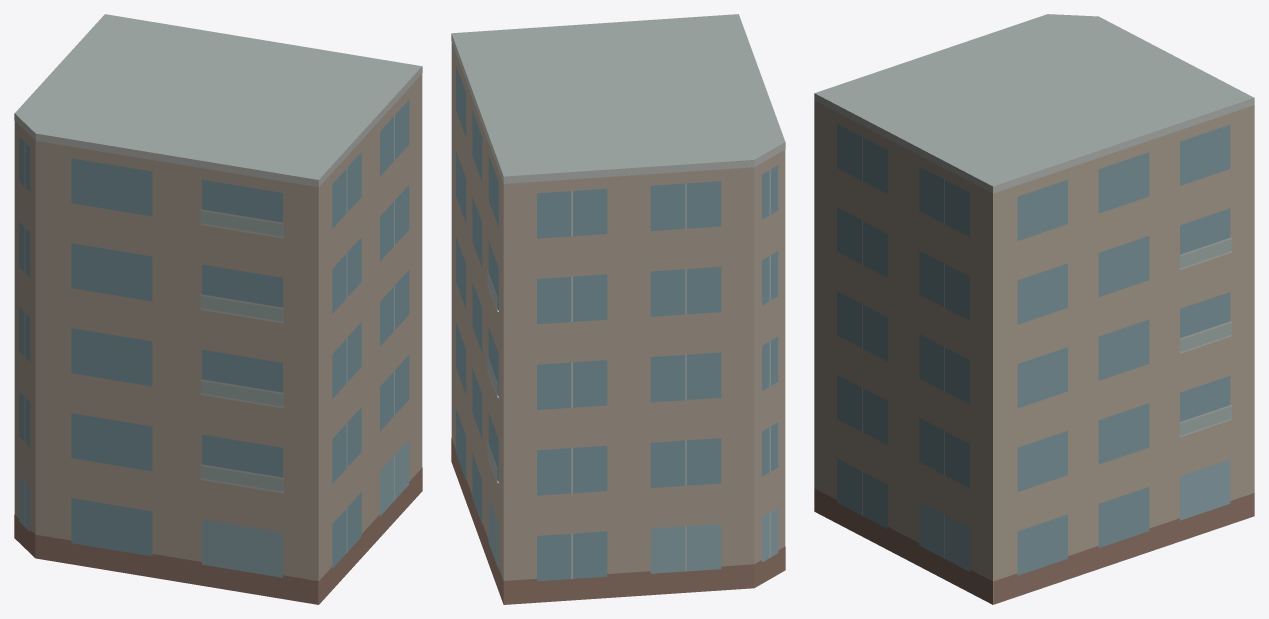
The model's file is survey-upis-32899219.glb.
3 renders of one model, left to right at view 1: azimuth 30°, elevation 25°; view 2: azimuth 150°, elevation 25°; view 3: azimuth 270°, elevation 25°, orthographic. The views are drawn at different scales.
Parts seen in each view (by area): view 1: survey-upis-32899219.tmp; view 2: survey-upis-32899219.tmp; view 3: survey-upis-32899219.tmp.
Boxes of the visible parts, x1,y1,x2,y2 form: survey-upis-32899219.tmp: (14, 14, 422, 604); survey-upis-32899219.tmp: (451, 14, 785, 604); survey-upis-32899219.tmp: (814, 14, 1254, 604).
Bounding box in the file's own units: 12.57 × 14.2 × 13.55.
